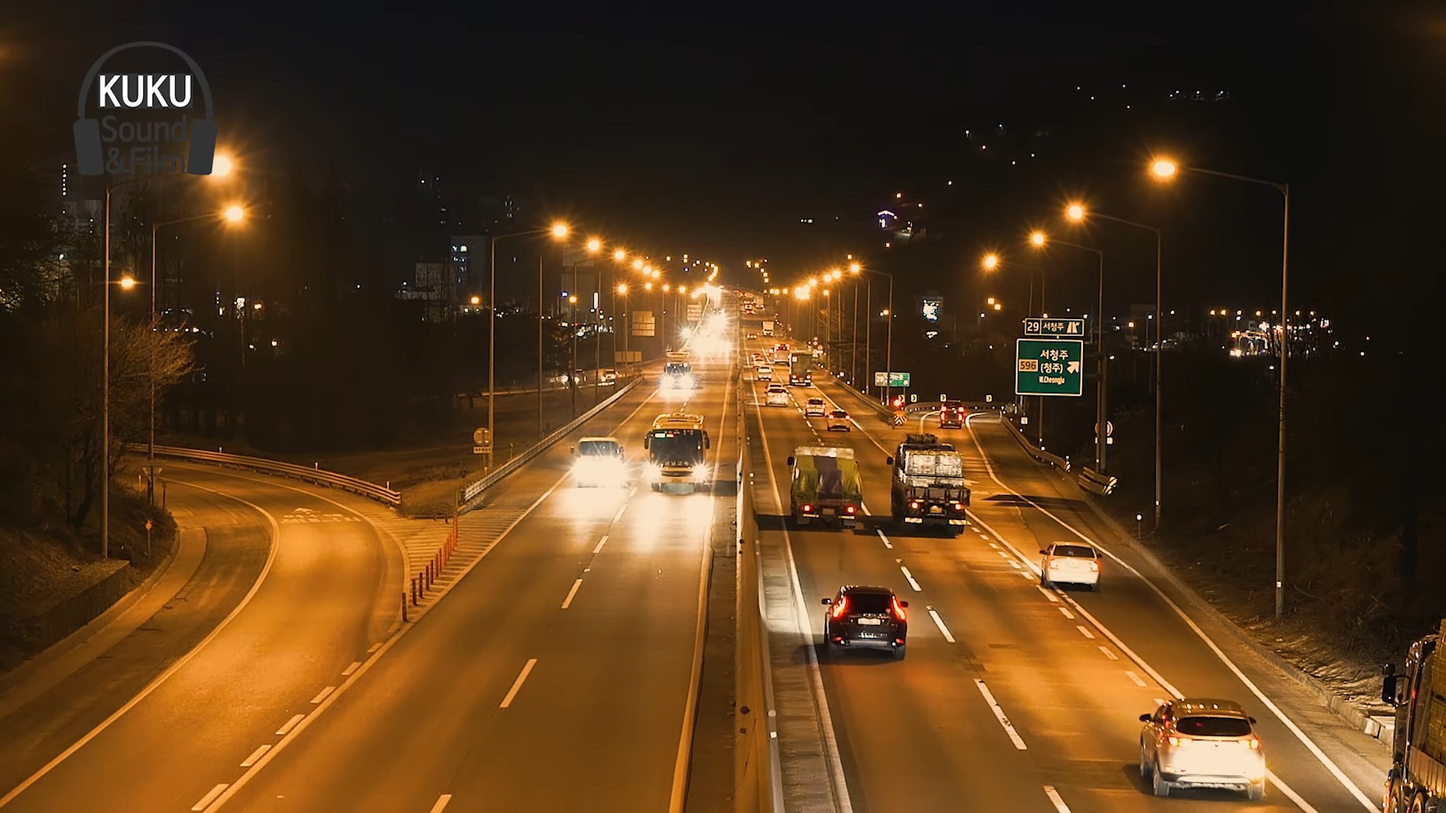car: (1148, 695, 1264, 796), (821, 581, 912, 665), (570, 434, 622, 491), (1044, 540, 1099, 591)
truck: (886, 436, 974, 538), (784, 441, 867, 532), (643, 417, 715, 501)
